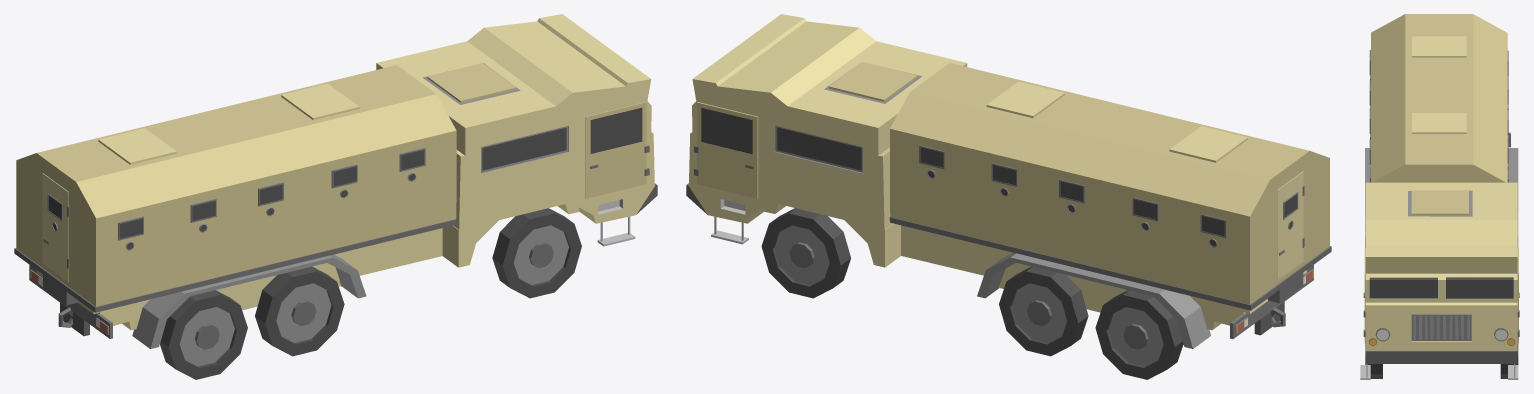
File: kar16.fbx
3 views of the same model, side by side, from view 1: azimuth 30°, elevation 25°; view 2: azimuth 150°, elevation 25°; view 3: azimuth 270°, elevation 25° (orthographic). The views are drawn at different scales.
Parts seen in each view (by area): view 1: Boole_12, Cylinder_4, Cylinder_5, Cylinder_6; view 2: Boole_12, Cylinder_1, Cylinder_2, Cylinder_3; view 3: Boole_12, Cylinder_4, Cylinder_1.
Boxes of the visible parts, bbox=[...] form: Boole_12: bbox=[14, 14, 657, 348]; Cylinder_4: bbox=[492, 208, 581, 298]; Cylinder_5: bbox=[255, 266, 344, 356]; Cylinder_6: bbox=[160, 290, 247, 379]; Boole_12: bbox=[686, 14, 1331, 348]; Cylinder_1: bbox=[761, 208, 850, 298]; Cylinder_2: bbox=[999, 266, 1088, 356]; Cylinder_3: bbox=[1095, 290, 1183, 379]; Boole_12: bbox=[1360, 14, 1519, 379]; Cylinder_4: bbox=[1365, 343, 1382, 378]; Cylinder_1: bbox=[1500, 343, 1518, 378].
Size of the model in its own units: 800 by 282 by 231.
